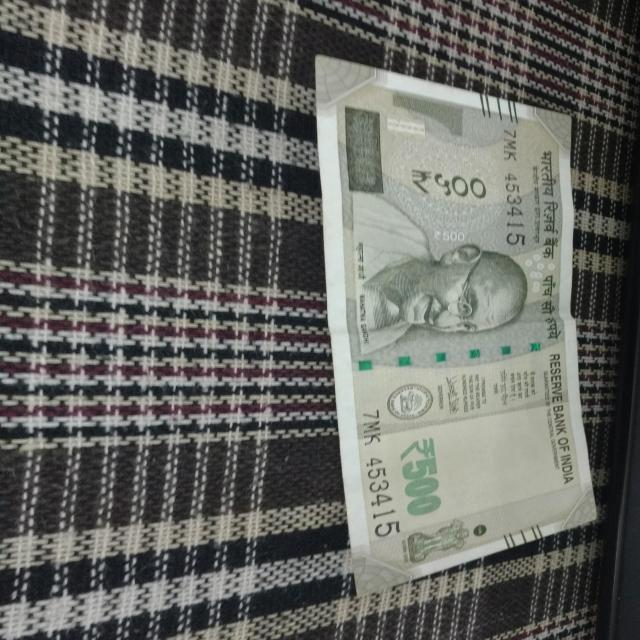Currency: (299, 74, 618, 564)
